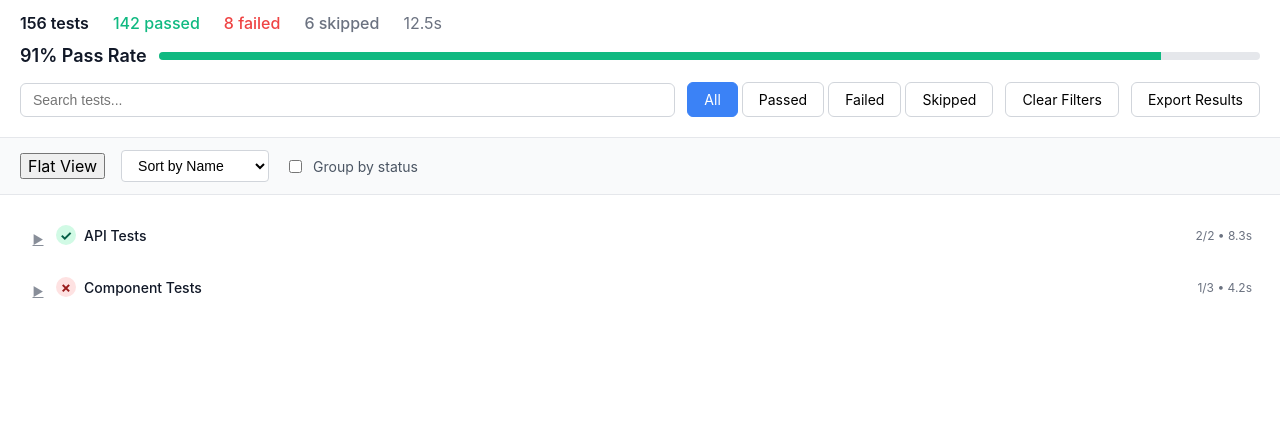
Test: TestResultsView › Test Suites › expands/collapses test suites
expect the text "renders correctly" is not shown: met
# Click to expand
Click the button with test id "expand-suite-1" at (38, 291), box [28,281,48,301]
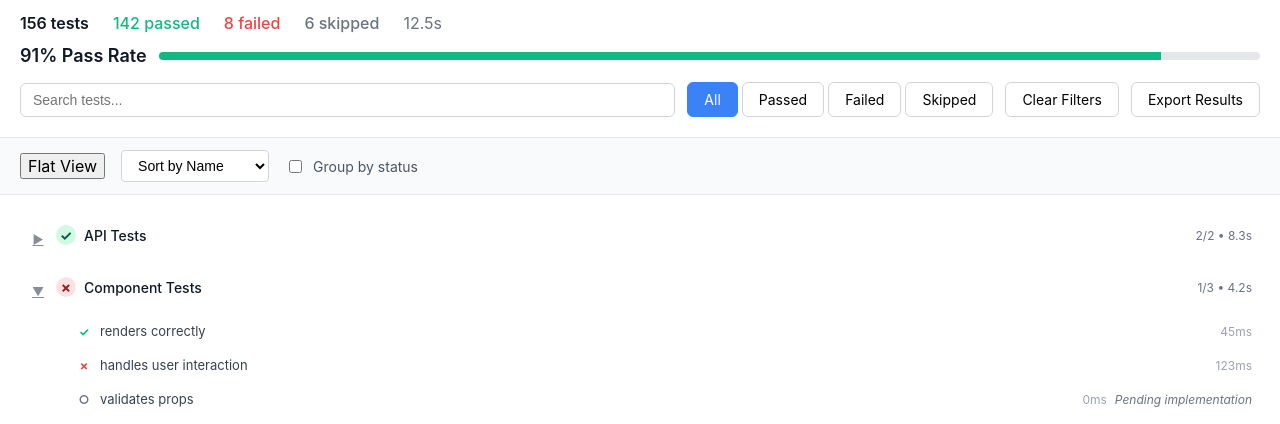
expect the text "renders correctly" is shown: met, box [100,323,206,339]
expect the text "handles user interaction" is shown: met, box [100,357,248,373]
